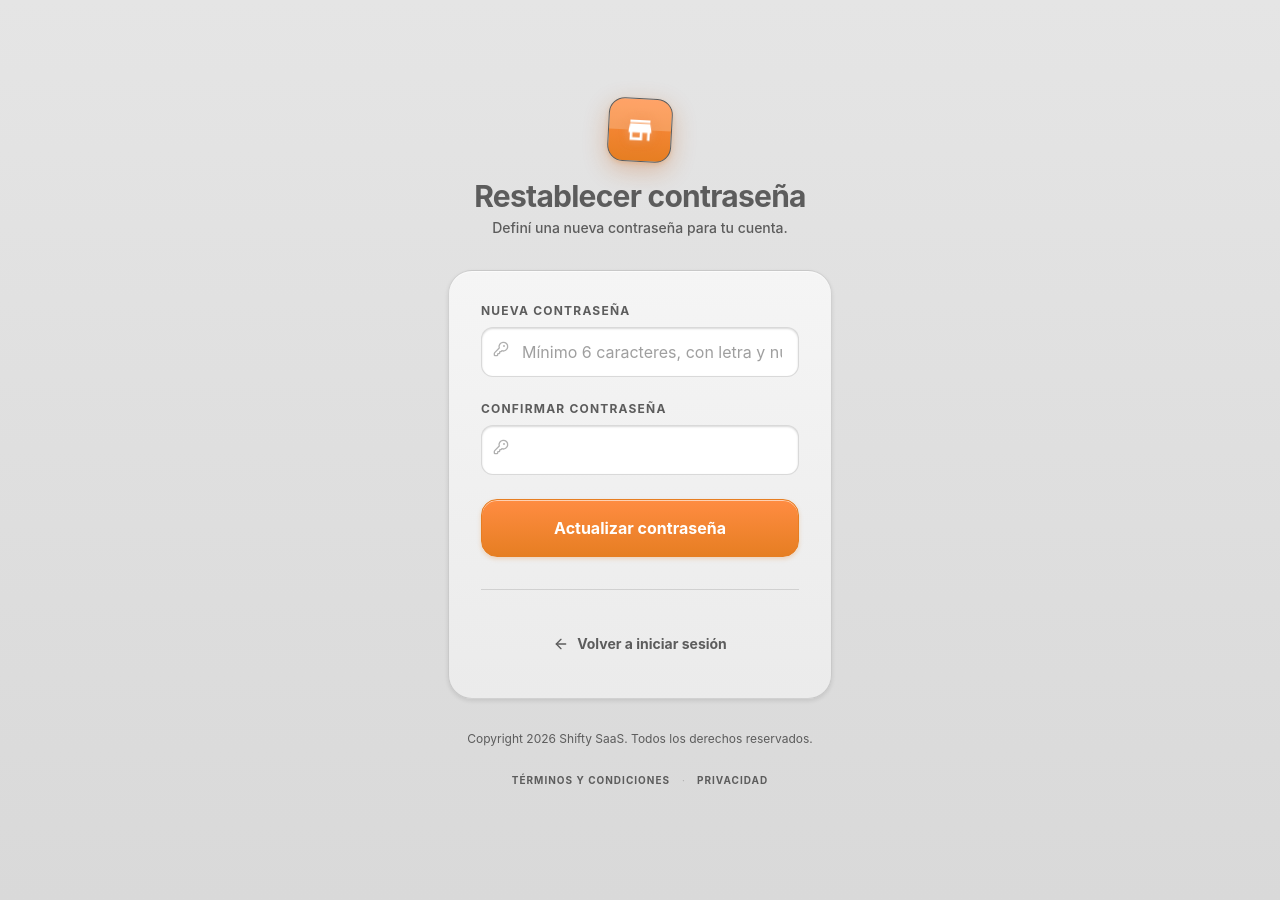
Test case: ResetPasswordPage › tras actualizar, mantiene la confirmación y ofrece ir al login
Type "abc123" into the password field labelled "Nueva contraseña".
click(640, 352); type("abc123")  # box x1=481 y1=326 x2=799 y2=376
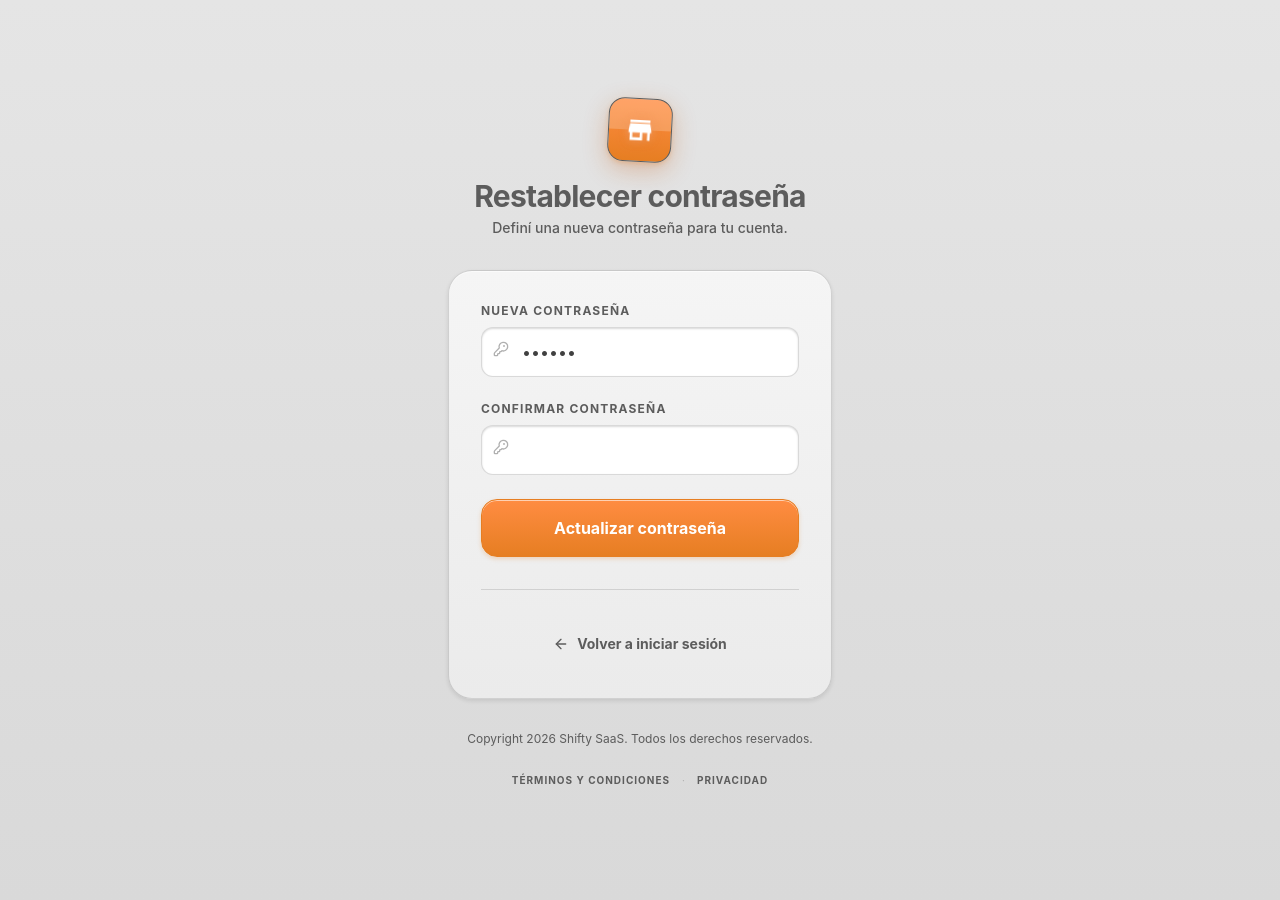
Type "abc123" into the password field labelled "Confirmar contraseña".
click(640, 450); type("abc123")  # box x1=481 y1=424 x2=799 y2=474
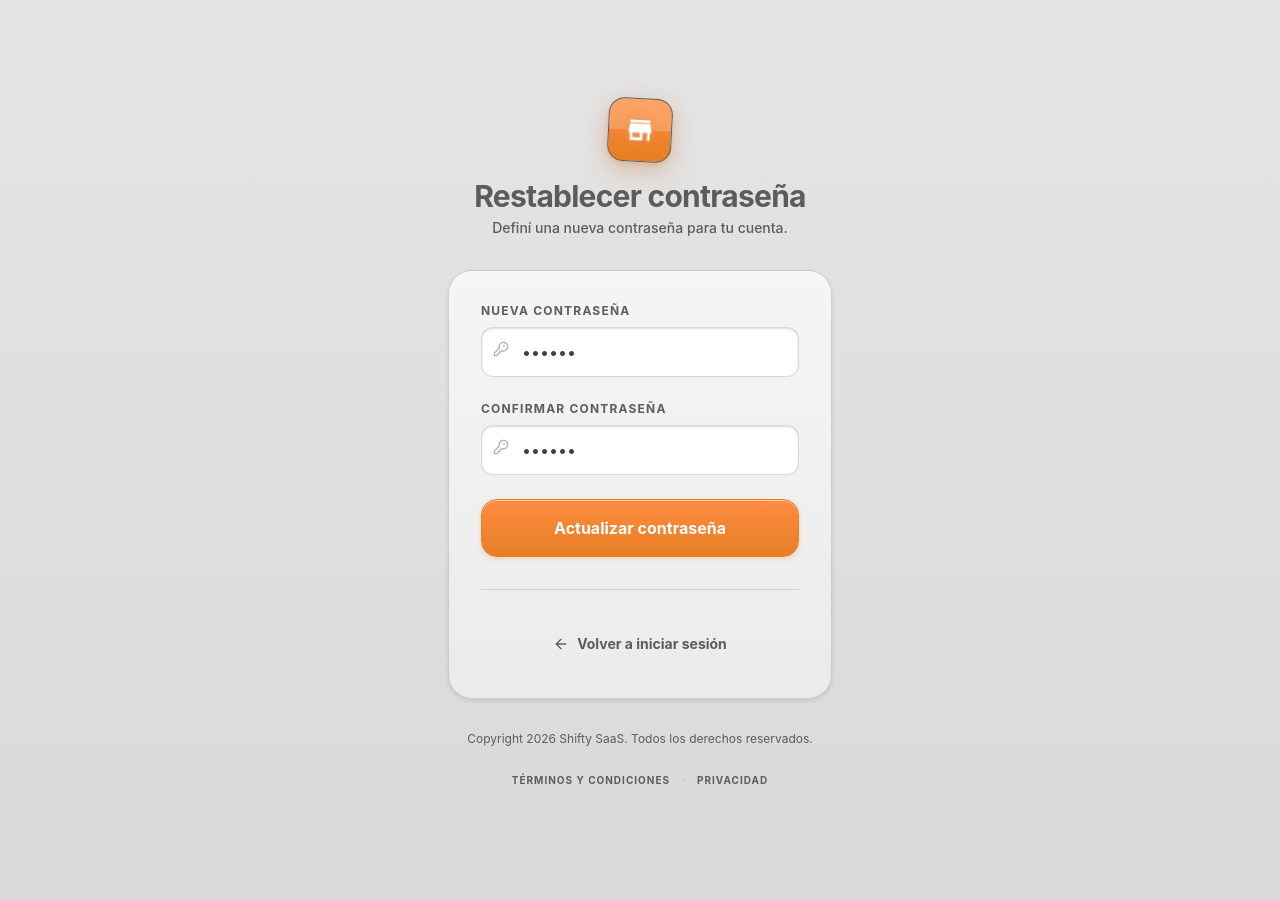
Submit the form "Actualizar contraseña", box x1=481 y1=302 x2=799 y2=556
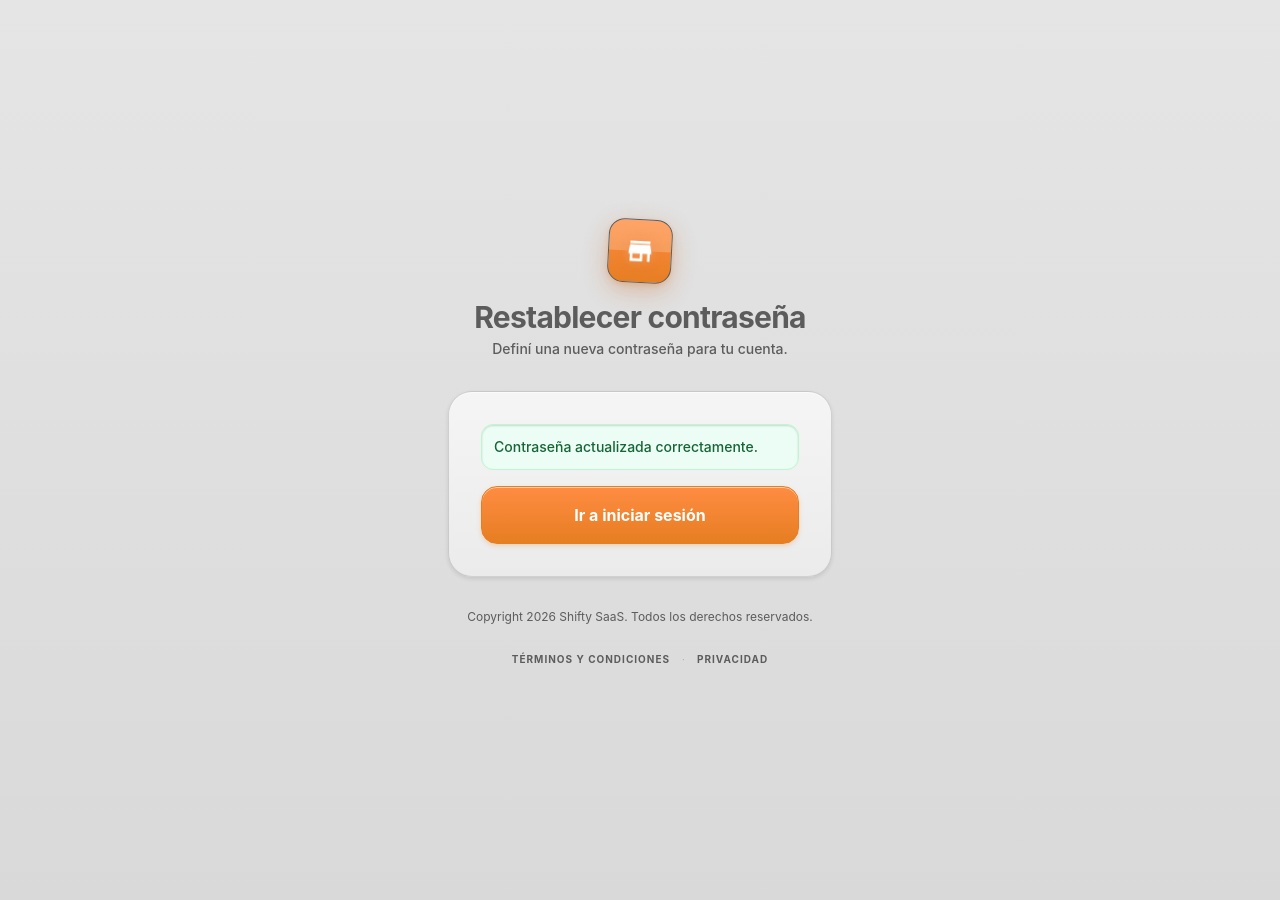
Now the message reads "Contraseña actualizada correctamente.", box x1=494 y1=438 x2=758 y2=455
Now the button "Actualizar contraseña" is gone
